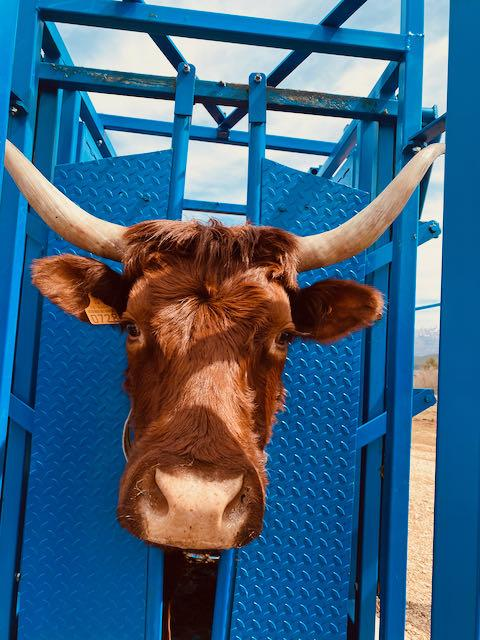muzzles: (124, 454, 260, 552)
